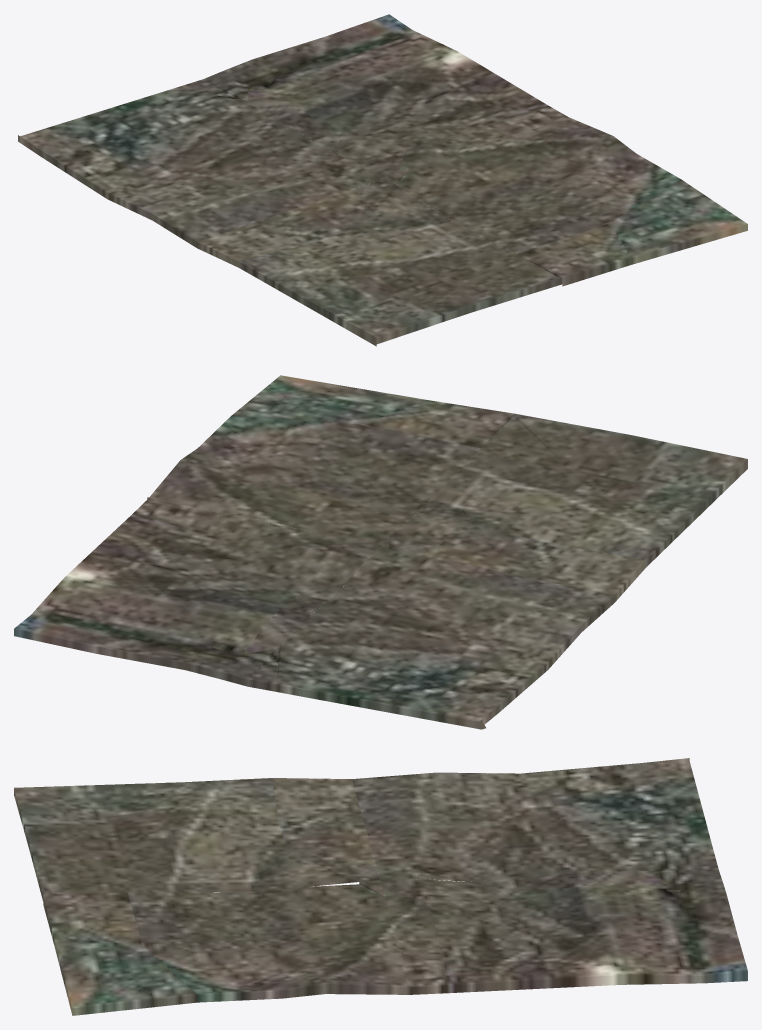
3 renders of one model, top to bottom at view 1: azimuth 30°, elevation 25°; view 2: azimuth 150°, elevation 25°; view 3: azimuth 270°, elevation 25°, orthographic. The views are drawn at different scales.
Visible parts, largest first — view 1: Mesh_0; view 2: Mesh_0; view 3: Mesh_0.
Boxes of the visible parts, <box> form: Mesh_0: <box>18,14,747,346</box>; Mesh_0: <box>14,375,747,729</box>; Mesh_0: <box>14,758,747,1015</box>.
Size of the model in its own units: 2148 by 109 by 2635.
1 material, 1 textured.
